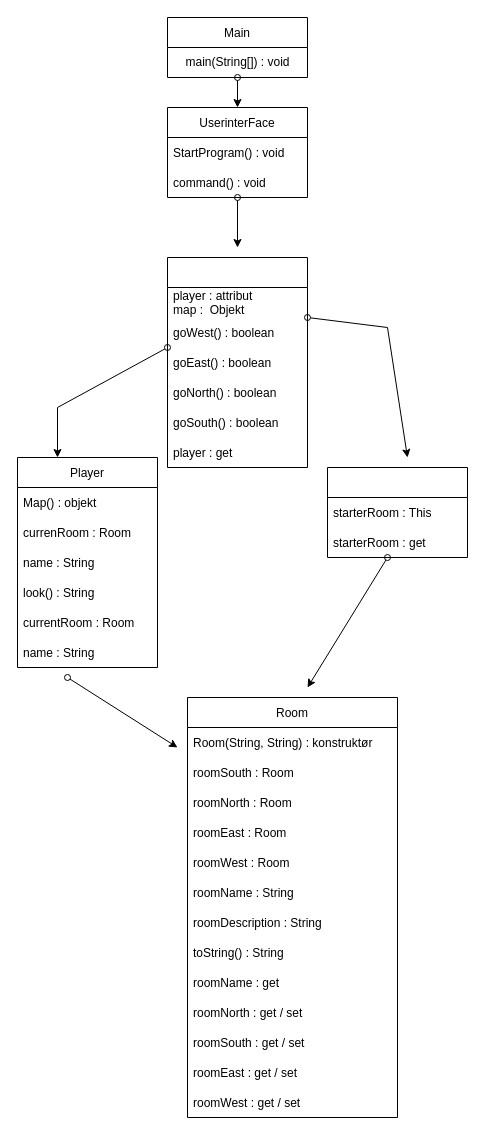
Image size: 485x1135. Some labels were removed from this diagram. Here are the shapes that lost their labels. From the top down, the box of each, then its label:
(166, 256, 308, 468): Adventure
(326, 466, 468, 558): Map
